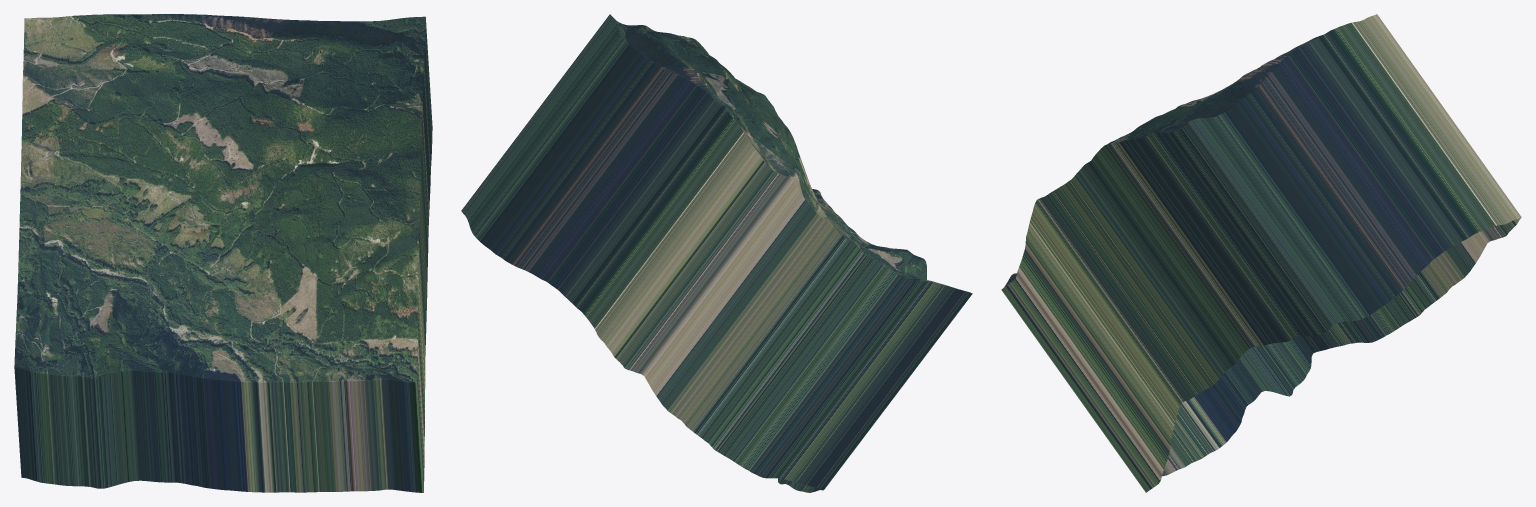
3 renders of one model, left to right at view 1: azimuth 30°, elevation 25°; view 2: azimuth 150°, elevation 25°; view 3: azimuth 270°, elevation 25°, orthographic. The views are drawn at different scales.
Bounding box in the file's own units: 6043 × 5102 × 6258.
1 material, 1 textured.
